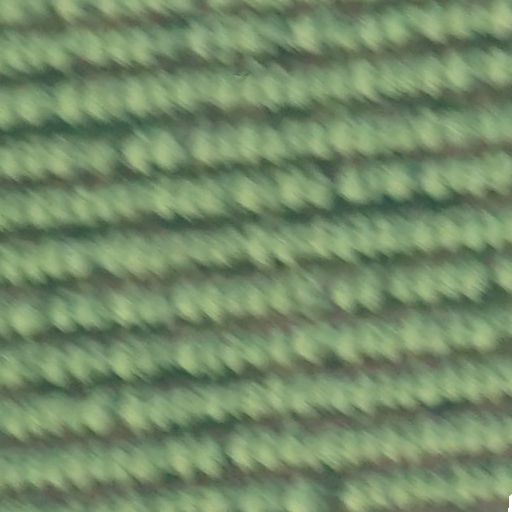eucalipto: (150, 125, 188, 173), (226, 425, 261, 475), (331, 267, 364, 314), (304, 167, 339, 210)
